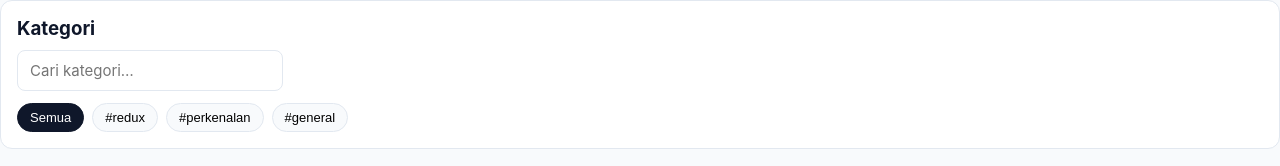
CategoryFilter › memfilter kategori lewat pencarian
Type "redu" into the field with placeholder "Cari kategori…" at x=150, y=70, box [17,50,283,91]
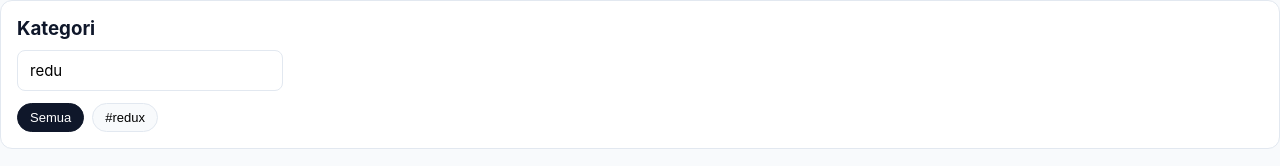
Expected: the button "#redux" is shown, [92,103,158,132]
Now the button "#perkenalan" is gone
